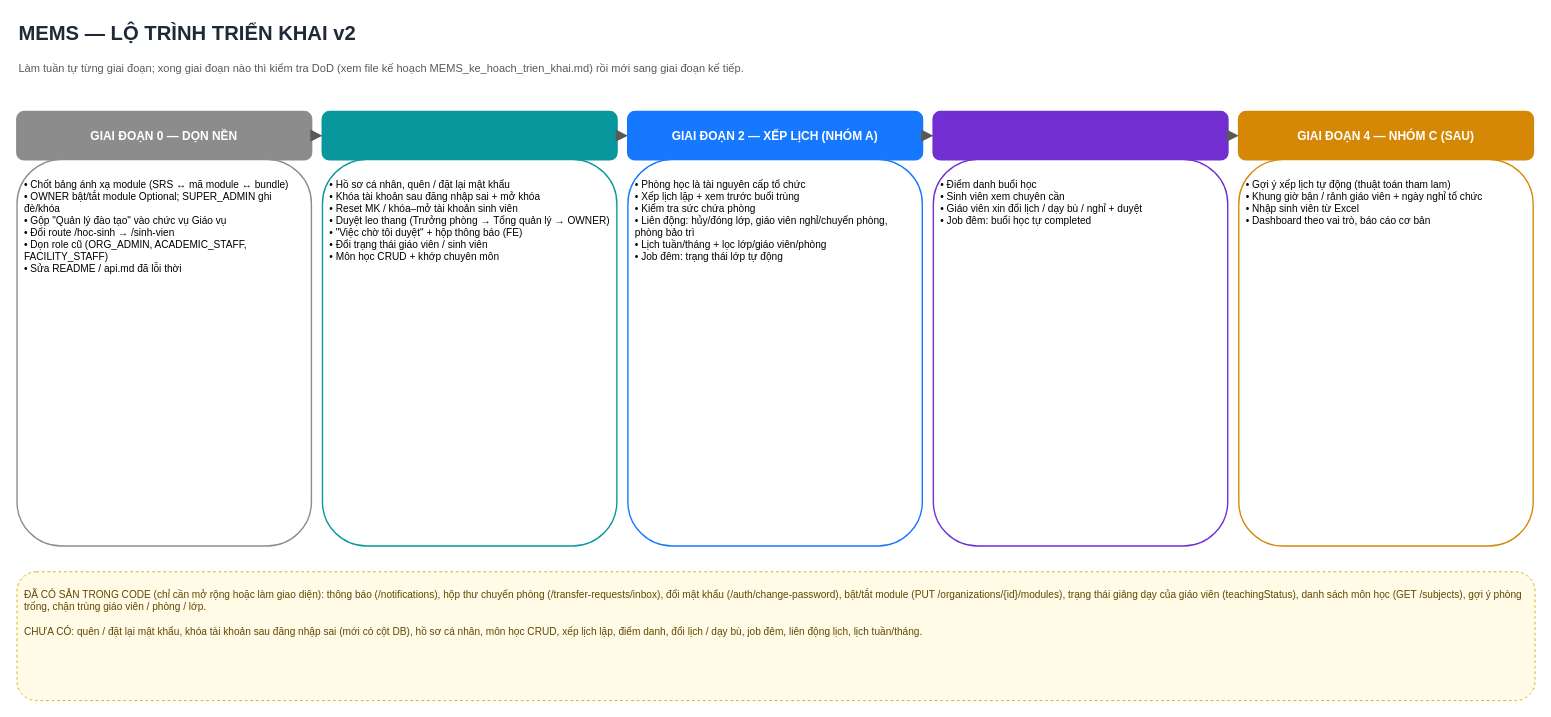
Image size: 1551x717. Some labels were removed from this diagram. Each missing label, with the box of its shape:
GIAI ĐOẠN 1 — TÀI KHOẢN & DUYỆT: (321, 110, 617, 160)
GIAI ĐOẠN 3 — NHÓM B: (932, 110, 1228, 160)
